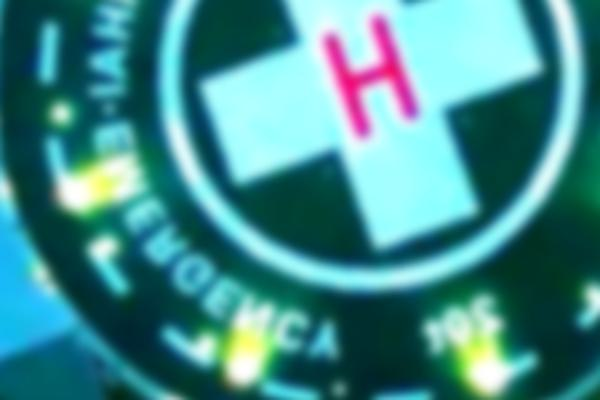Apron: (147, 1, 585, 299)
